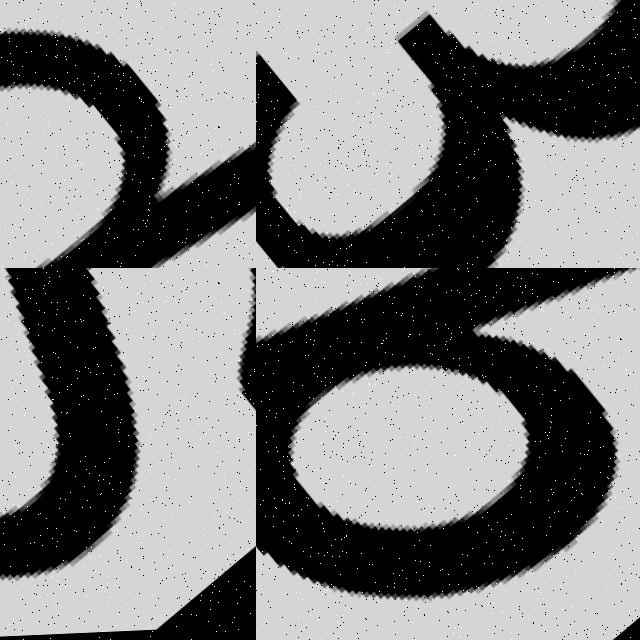3: (256, 0, 640, 268)
B: (256, 268, 640, 604)
D: (0, 0, 256, 268)
S: (0, 268, 256, 640)
